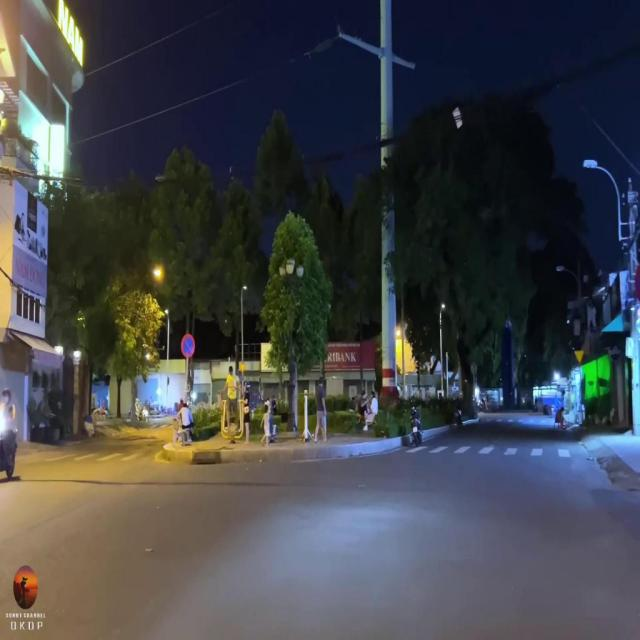cam_do_xe: (181, 333, 195, 358)
giao_nhau_voi_duong_uu_tien: (574, 351, 584, 364), (240, 364, 246, 374)
